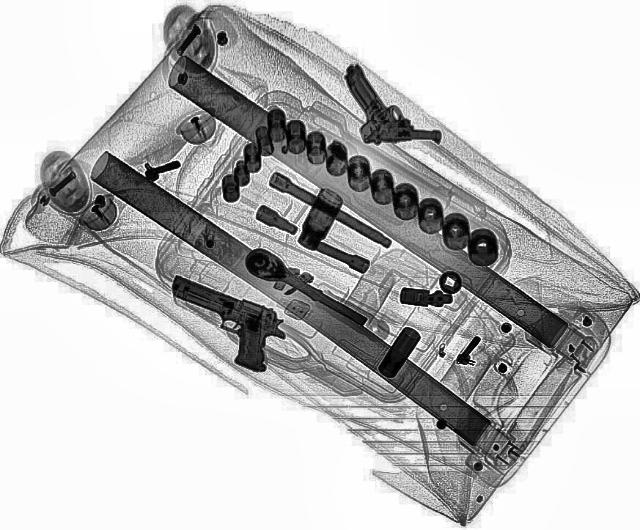Gun: (141, 274, 297, 374), (342, 58, 442, 146)
